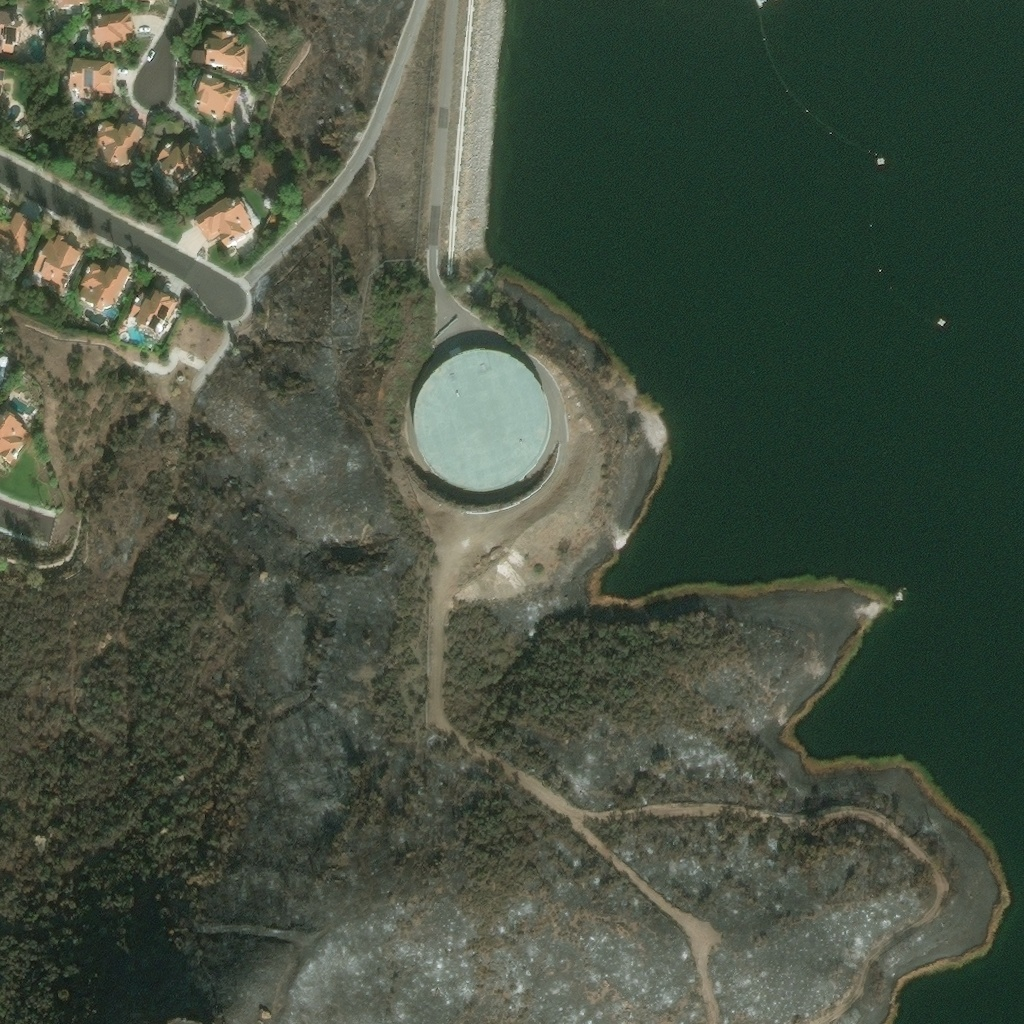0 no-damage: (412, 351, 553, 494), (193, 195, 261, 250), (86, 120, 144, 176), (32, 236, 82, 298), (78, 263, 130, 316), (129, 289, 180, 338), (189, 75, 240, 122), (156, 140, 205, 187), (202, 32, 248, 75), (68, 61, 115, 102), (0, 411, 33, 467), (0, 212, 37, 258), (91, 15, 137, 48), (0, 14, 23, 56), (47, 0, 90, 17), (262, 198, 275, 211), (0, 357, 9, 370), (134, 0, 153, 3)
1 minor-damage: (0, 71, 6, 101)
